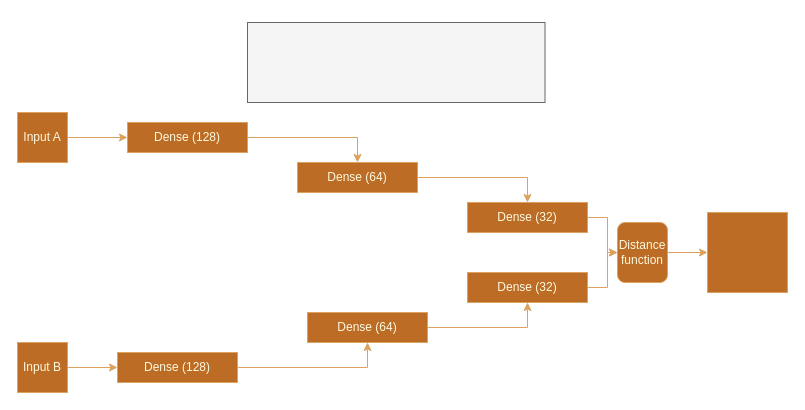
This 805x410 diagram has some shape labels left out. The shapes that lost their labels are listed below. From the top down, each one's centre as x and y in pixels, then its label:
At point 395,62: "Siamese Network Architecture".
At point 747,252: "Output (1 )".
